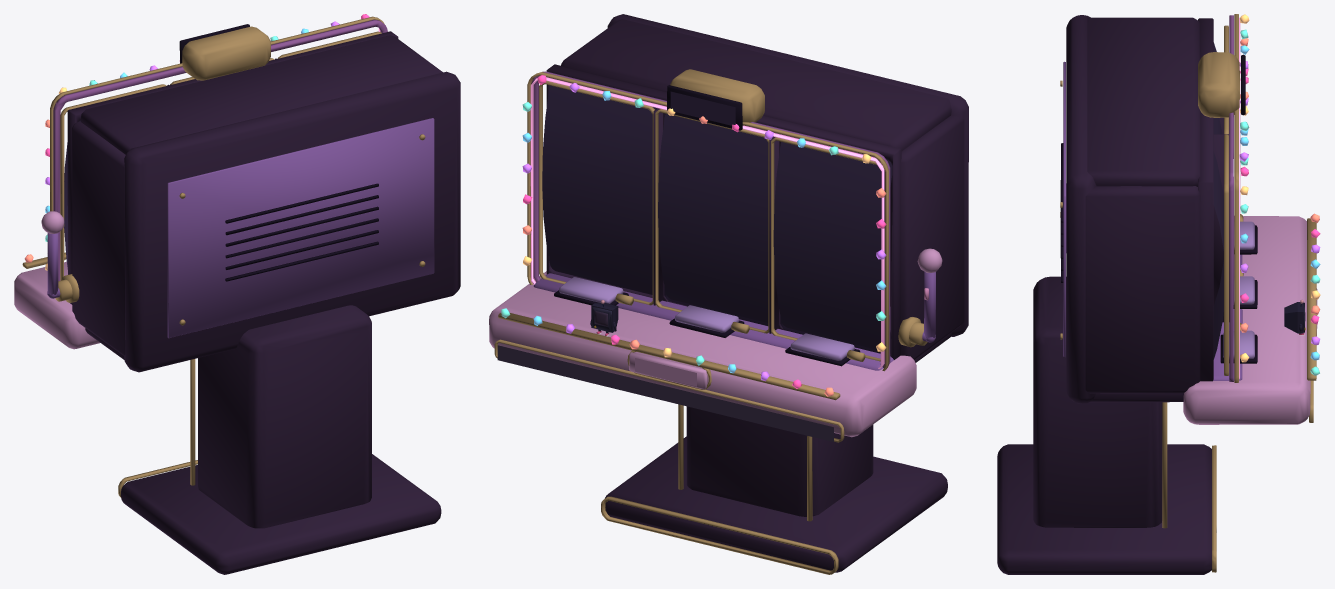
The model's file is slot-cabinet-lod0.glb.
3 views of the same model, side by side, from view 1: azimuth 30°, elevation 25°; view 2: azimuth 150°, elevation 25°; view 3: azimuth 270°, elevation 25° (orthographic). The views are drawn at different scales.
Visible parts, largest first — view 1: slot_cabinet_lod0; view 2: slot_cabinet_lod0; view 3: slot_cabinet_lod0.
Boxes of the visible parts, box(x1,y1,x2,y2) form: slot_cabinet_lod0: box(14, 14, 460, 574); slot_cabinet_lod0: box(489, 14, 968, 574); slot_cabinet_lod0: box(997, 14, 1320, 574).
Size of the model in its own units: 1.67 by 1.89 by 1.22.
